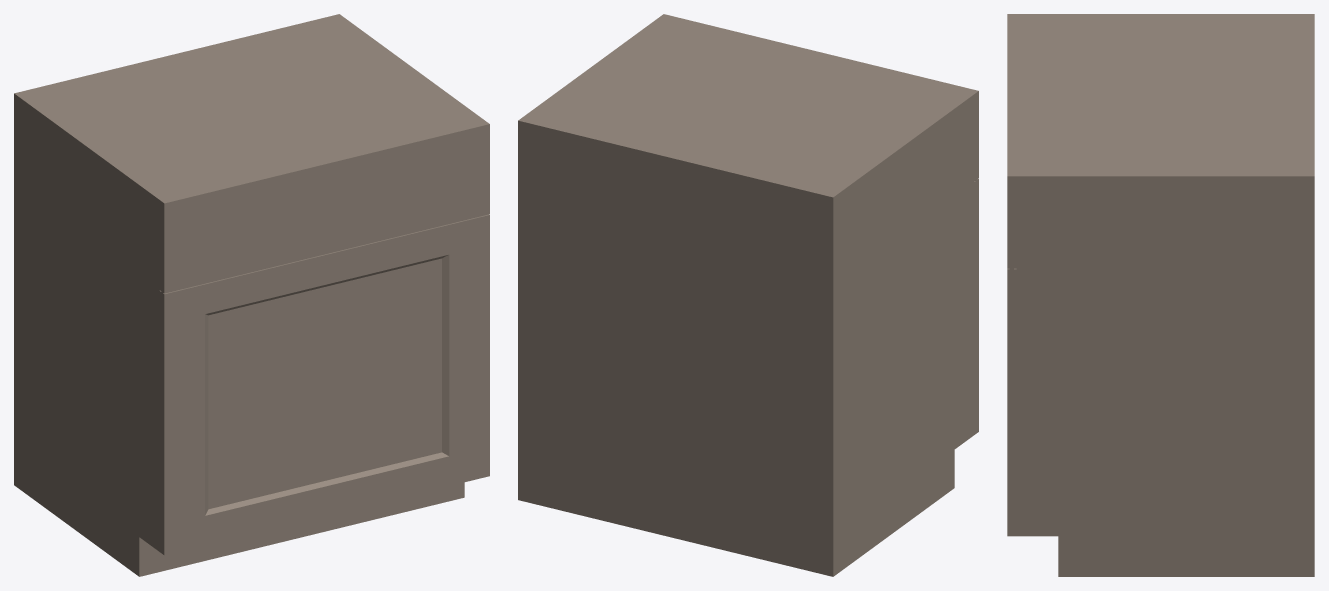
Rendered from Base-Cabinet-Single-Door_W30in_2D.glb.
3 views of the same model, side by side, from view 1: azimuth 30°, elevation 25°; view 2: azimuth 150°, elevation 25°; view 3: azimuth 270°, elevation 25° (orthographic). The views are drawn at different scales.
Parts seen in each view (by area): view 1: Base-Cabinet-Single-Door_W30in_2D; view 2: Base-Cabinet-Single-Door_W30in_2D; view 3: Base-Cabinet-Single-Door_W30in_2D.
Part boxes in pixels (x1,y1,x2,y2): Base-Cabinet-Single-Door_W30in_2D: (14, 14, 489, 576); Base-Cabinet-Single-Door_W30in_2D: (518, 14, 978, 576); Base-Cabinet-Single-Door_W30in_2D: (1007, 14, 1314, 576).
Size of the model in its own units: 0.762 by 0.8769 by 0.61.
